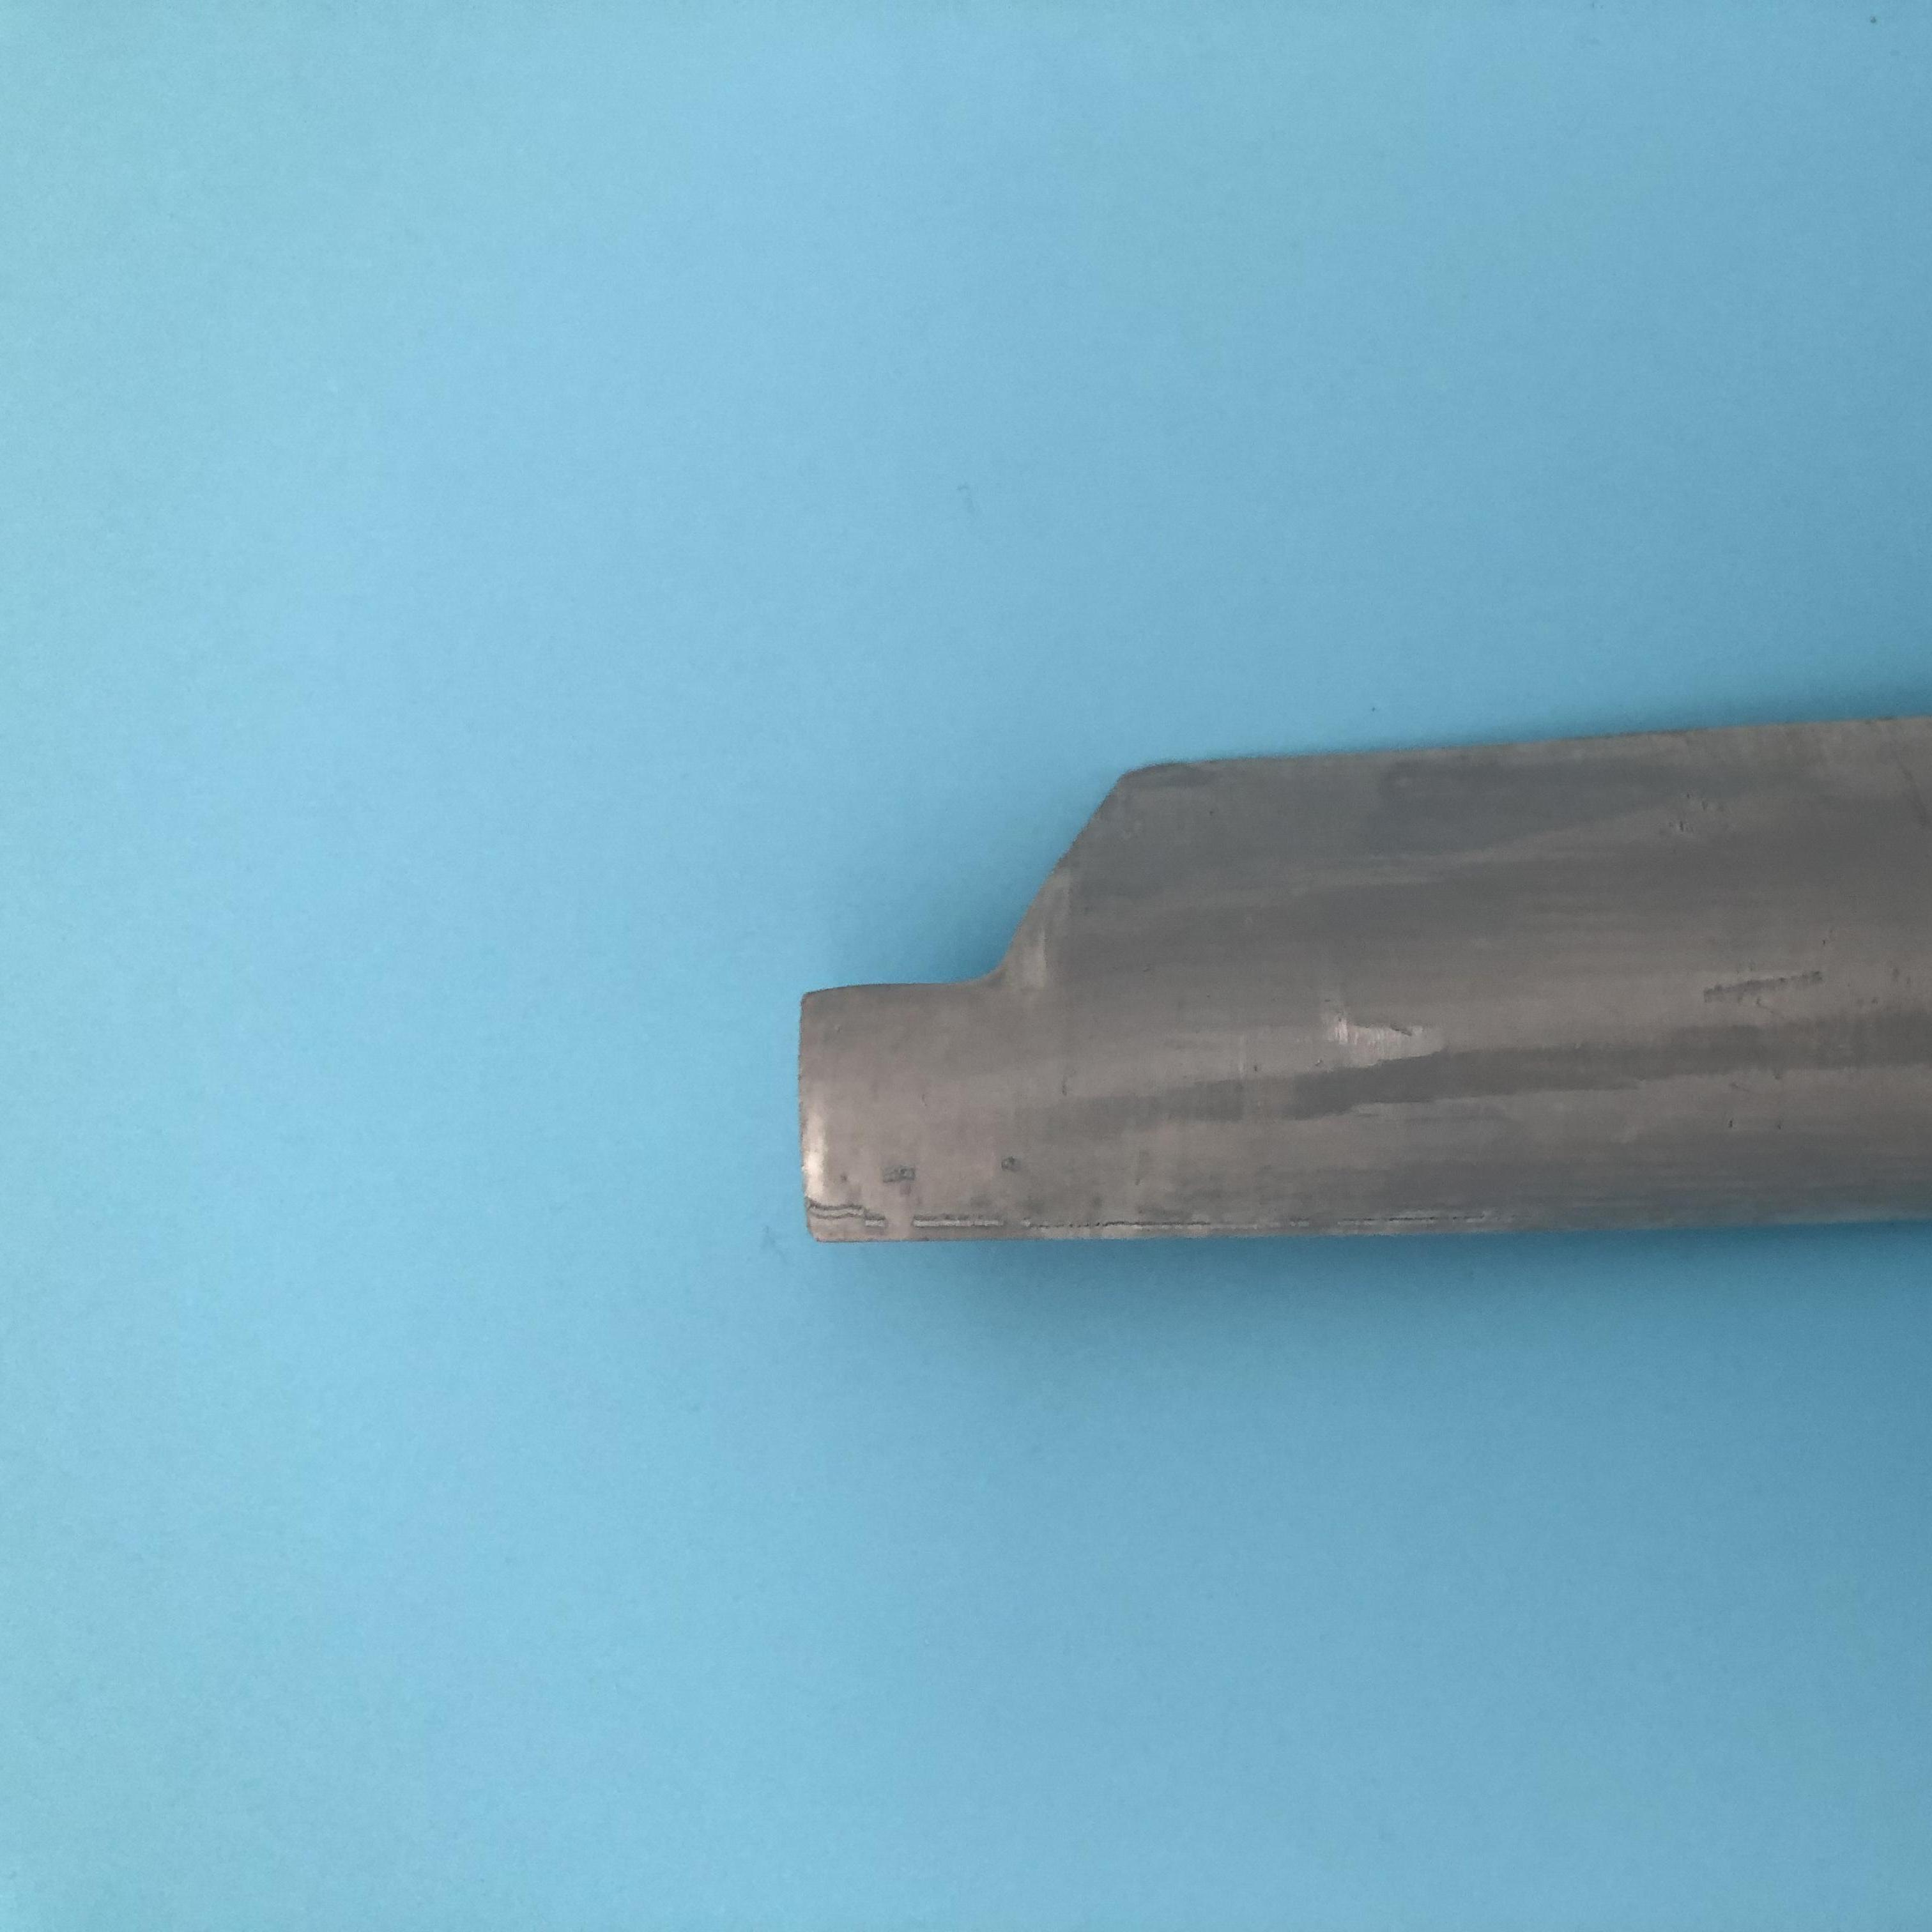fracture: (807, 777, 1182, 1012)
